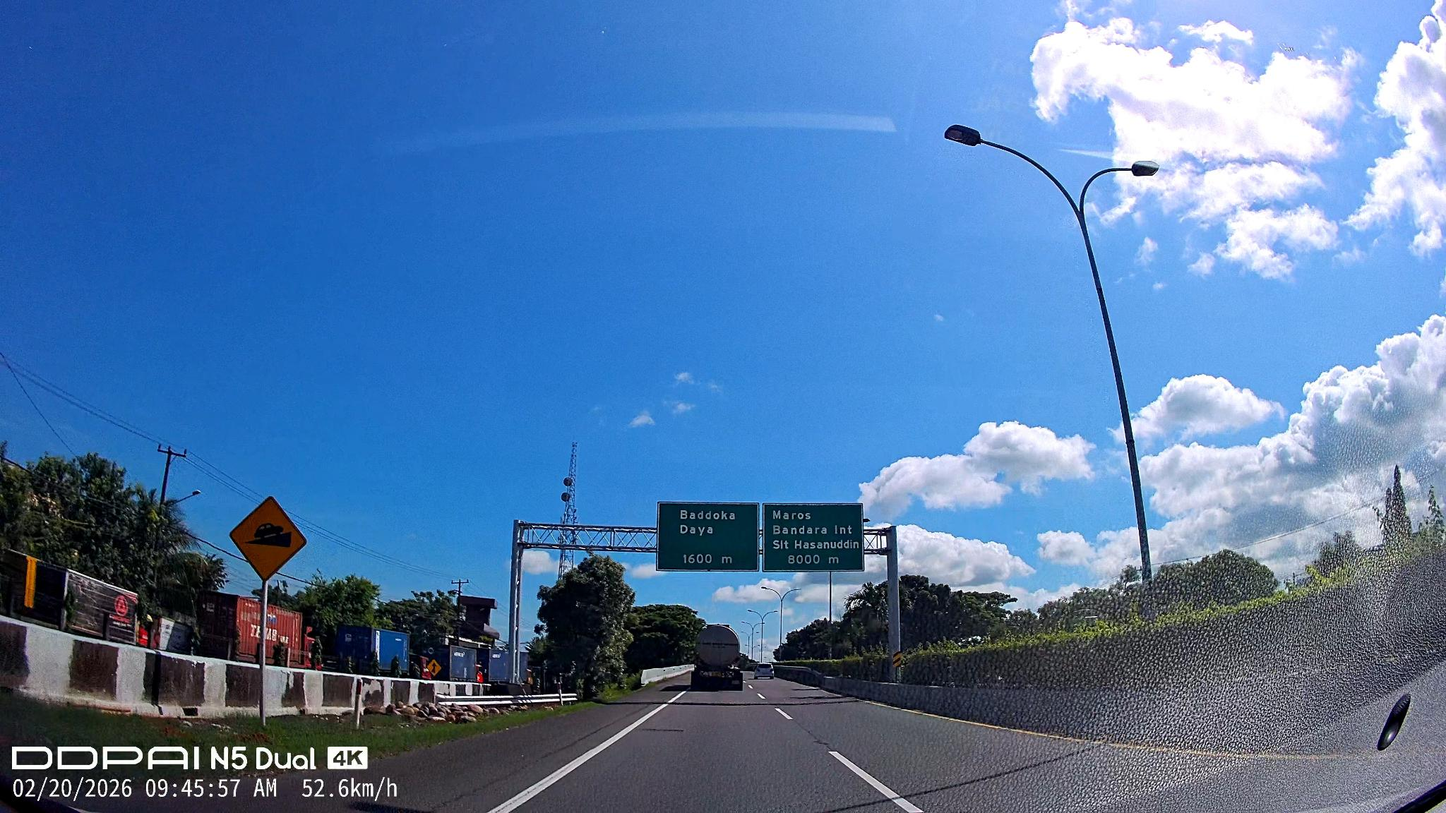rambu_teks: (656, 501, 759, 573), (761, 502, 865, 573)
